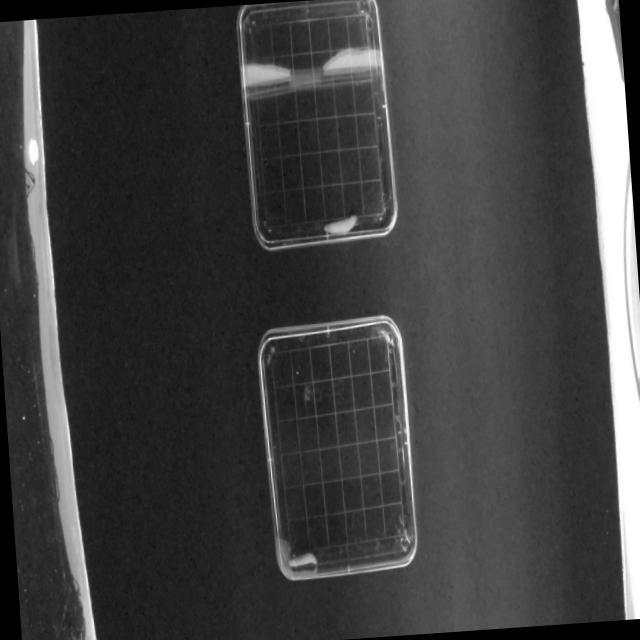larva: (284, 546, 318, 572), (322, 213, 358, 235)
